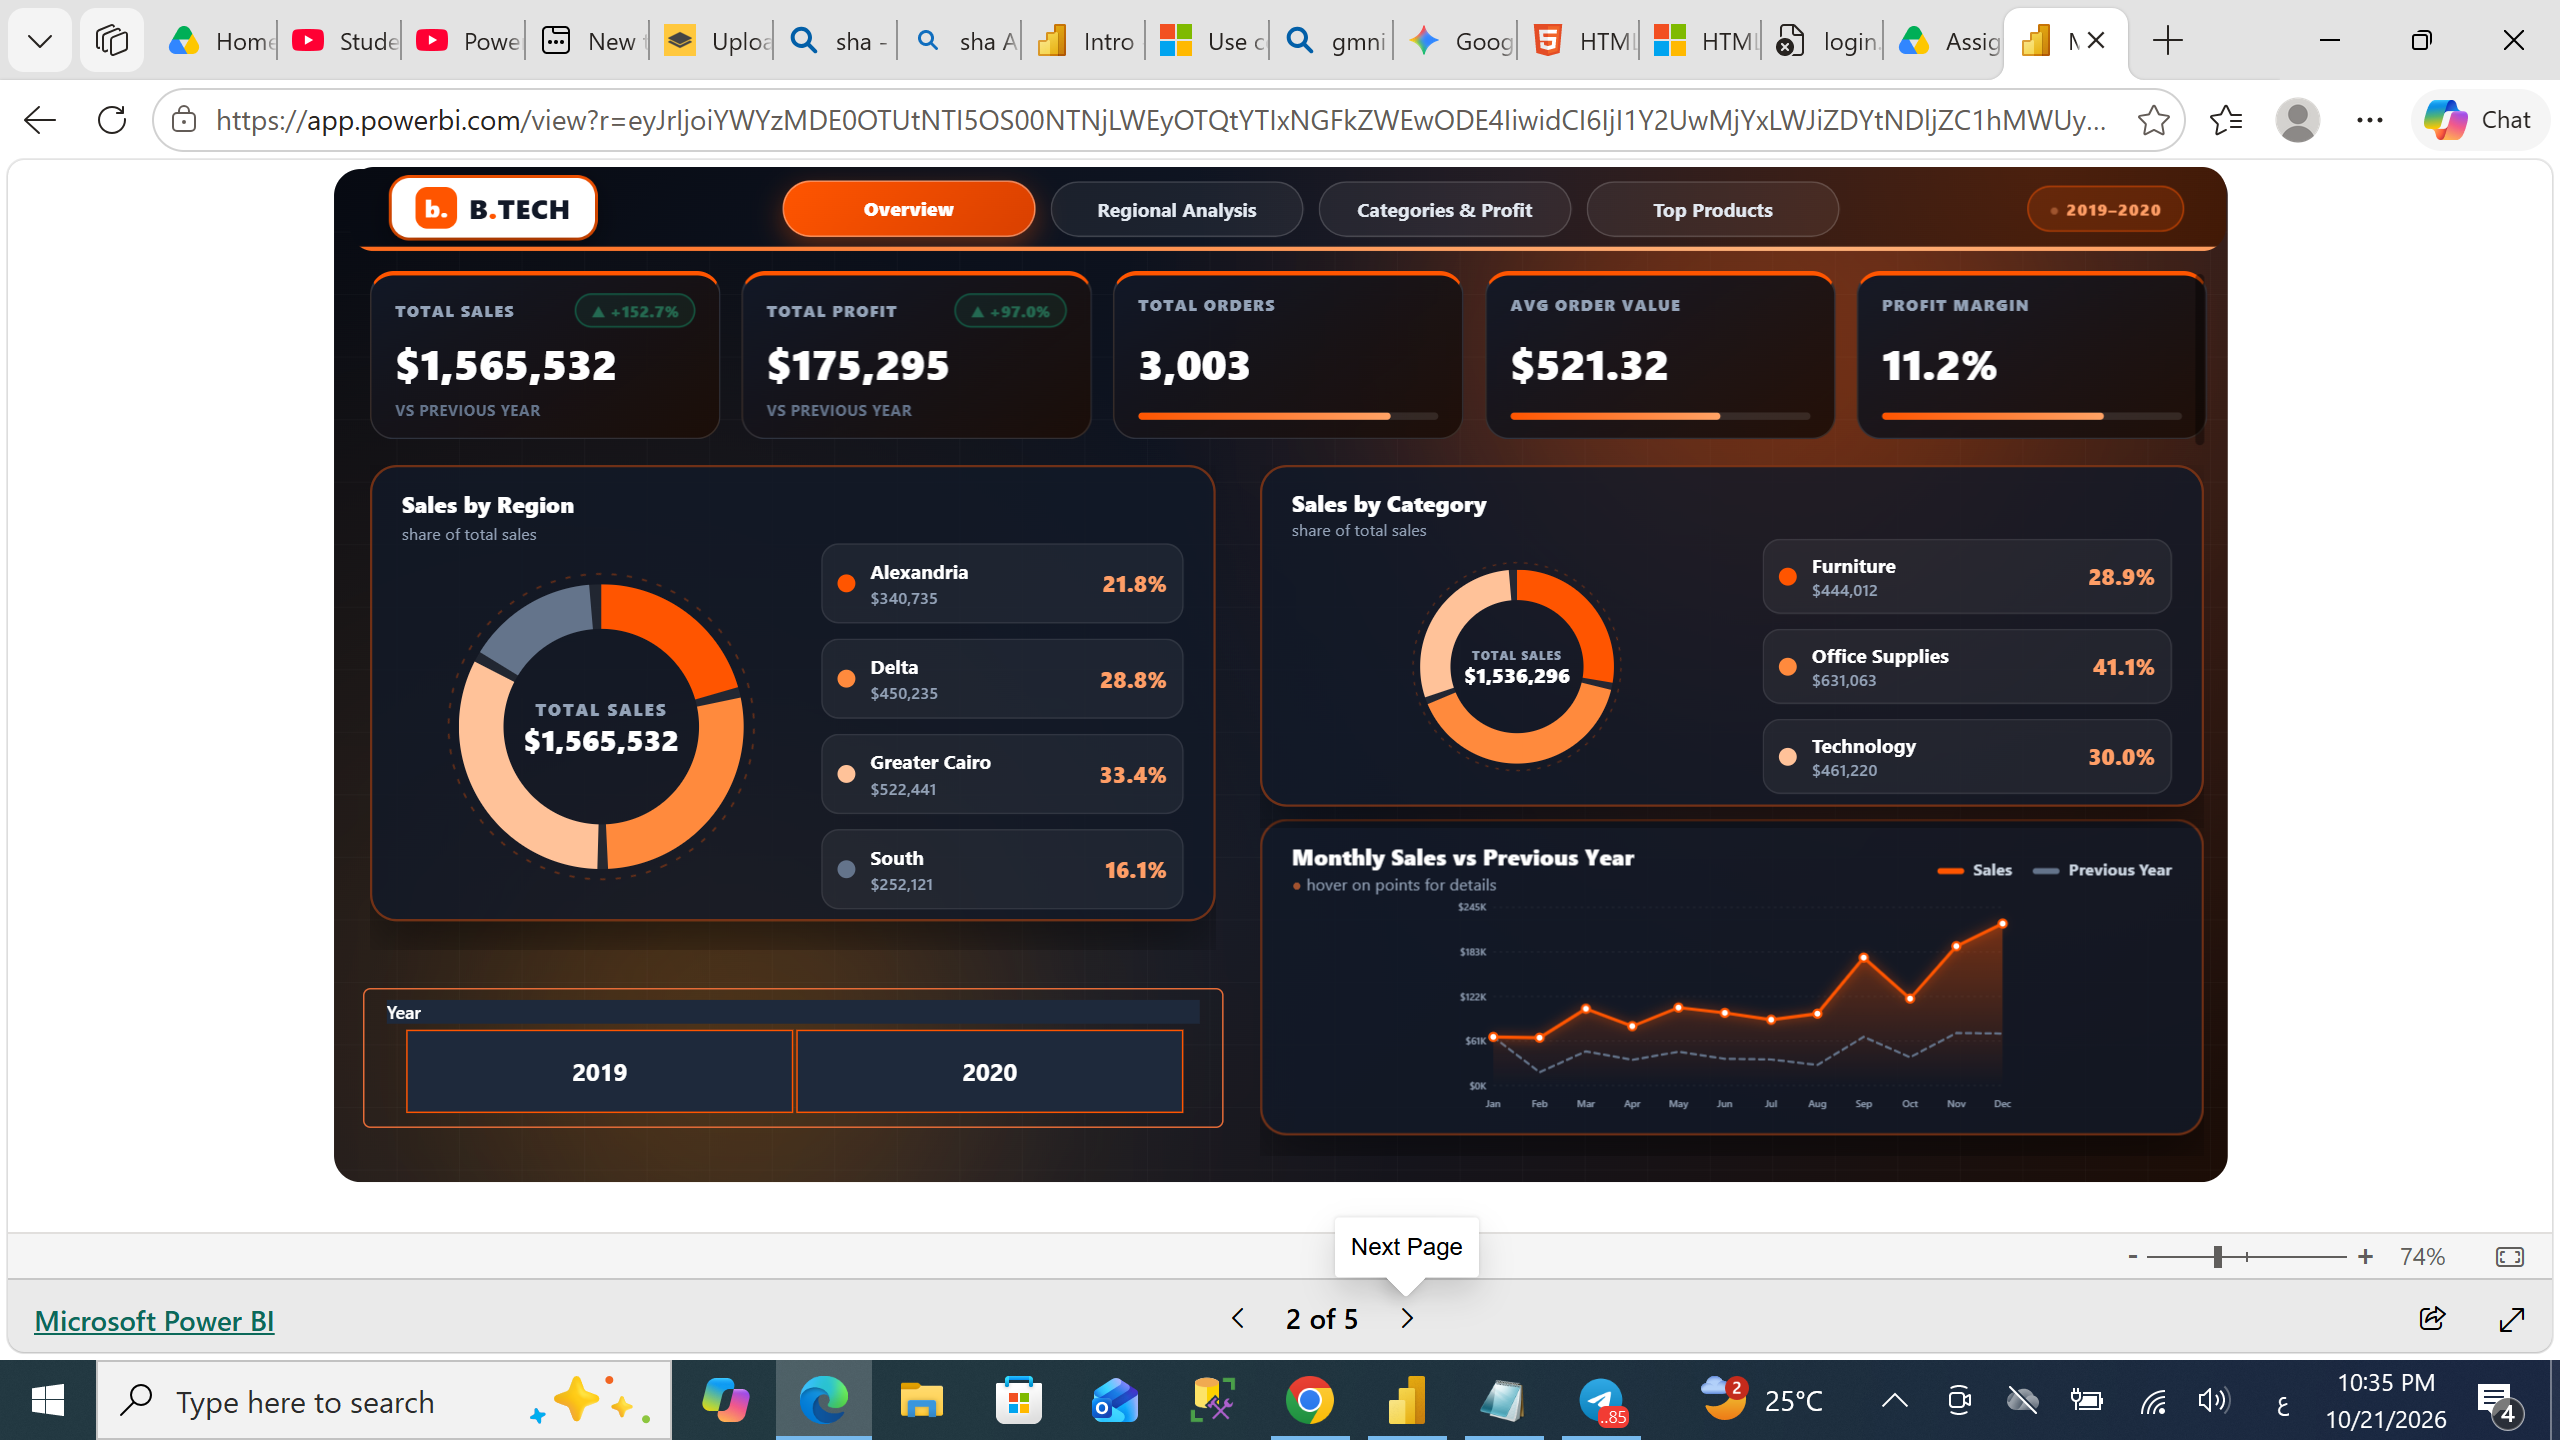

The page's visual inventory and layout, read from the dashboard file:
{"tool":"powerbi","page":{"name":"Overview","canvas":[1280,720],"ordinal":1},"visuals":[{"type":"htmlContent443BE3AD55E043BF878BED274D3A6855","fields":{"content":["Dax (2).Bg_Page"]},"box":[0,1.7,1281.7,718.3],"z":0},{"type":"htmlContent443BE3AD55E043BF878BED274D3A6855","fields":{"content":["Dax (2).Nav_Overview"]},"box":[10.2,0,1269.8,70],"z":1000},{"type":"htmlContent443BE3AD55E043BF878BED274D3A6855","fields":{"content":["Dax (2).KPI_Overview"]},"box":[24,70,1244,130],"z":2000},{"type":"actionButton","box":[40.9,10.2,139.8,51.1],"z":3000},{"type":"actionButton","box":[490.8,0,171.4,61.4],"z":4000},{"type":"actionButton","box":[662.2,0,171.4,61.4],"z":5000},{"type":"actionButton","box":[833.6,2.1,171.4,61.4],"z":6000},{"type":"htmlContent443BE3AD55E043BF878BED274D3A6855","fields":{"content":["Dax (2).Chart_Line"]},"box":[622,438,644,236],"z":7000},{"type":"htmlContent443BE3AD55E043BF878BED274D3A6855","fields":{"content":["Dax (2).Chart_Donut"]},"box":[622,200,644,254],"z":8000},{"type":"slicer","fields":{"Values":["Dim_Date.Year"]},"box":[24,556,578,94],"z":9000},{"type":"htmlContent443BE3AD55E043BF878BED274D3A6855","fields":{"content":["Dax (2).Chart_Donut_Region"]},"box":[24,200,578,336],"z":10000}]}

Visuals, with their boxes on the page's 1280x720 design canvas (x1, y1, x2, y2). These are canvas units, not pixel positions in the 2560x1440 screenshot, which may show the page scaled, cropped or inside an application window:
htmlContent443BE3AD55E043BF878BED274D3A6855 - Dax (2).Bg_Page: bbox=(0, 2, 1282, 720)
htmlContent443BE3AD55E043BF878BED274D3A6855 - Dax (2).Nav_Overview: bbox=(10, 0, 1280, 70)
htmlContent443BE3AD55E043BF878BED274D3A6855 - Dax (2).KPI_Overview: bbox=(24, 70, 1268, 200)
actionButton: bbox=(41, 10, 181, 61)
actionButton: bbox=(491, 0, 662, 61)
actionButton: bbox=(662, 0, 834, 61)
actionButton: bbox=(834, 2, 1005, 64)
htmlContent443BE3AD55E043BF878BED274D3A6855 - Dax (2).Chart_Line: bbox=(622, 438, 1266, 674)
htmlContent443BE3AD55E043BF878BED274D3A6855 - Dax (2).Chart_Donut: bbox=(622, 200, 1266, 454)
slicer - Dim_Date.Year: bbox=(24, 556, 602, 650)
htmlContent443BE3AD55E043BF878BED274D3A6855 - Dax (2).Chart_Donut_Region: bbox=(24, 200, 602, 536)
